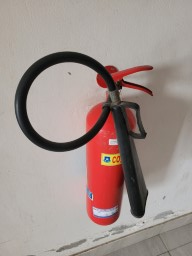fire_extinguisher: (38, 50, 170, 236)
